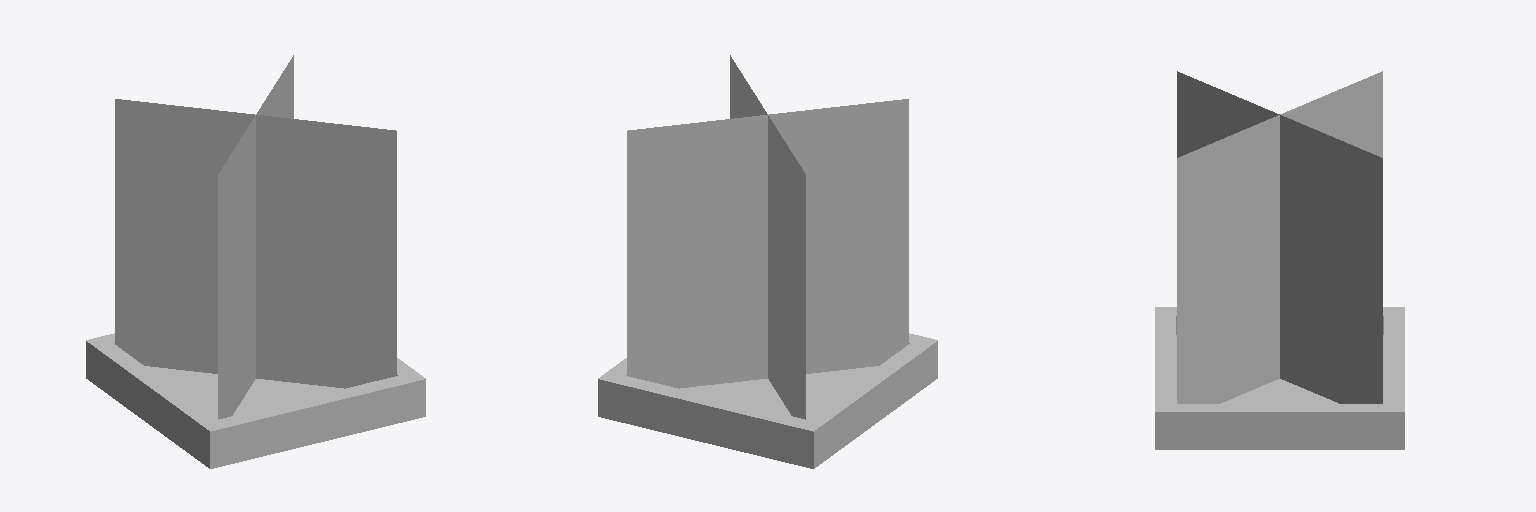
File: sf_nodes_campfire.obj
3 views of the same model, side by side, from view 1: azimuth 30°, elevation 25°; view 2: azimuth 150°, elevation 25°; view 3: azimuth 270°, elevation 25° (orthographic).
Parts seen in each view (by area): view 1: campfire; view 2: campfire; view 3: campfire.
Boxes of the visible parts, x1=… form: campfire: x1=86, y1=55, x2=425, y2=468; campfire: x1=598, y1=55, x2=937, y2=468; campfire: x1=1155, y1=71, x2=1404, y2=449.
Bounding box in the file's own units: 0.75 × 0.9375 × 0.75.